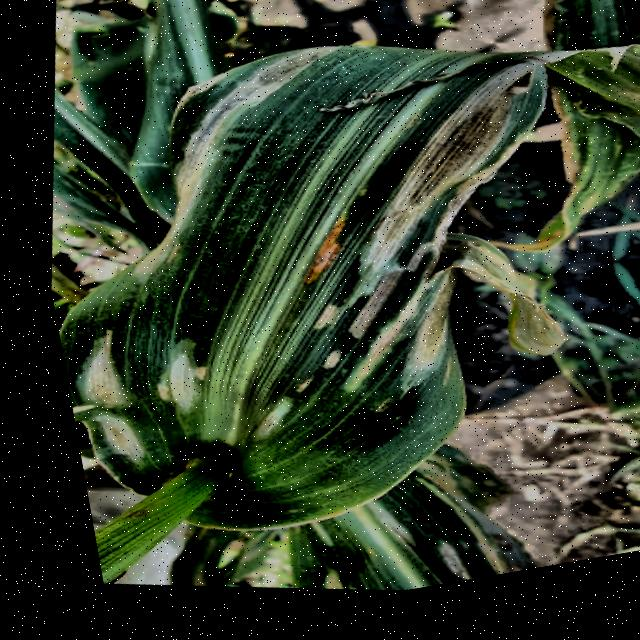blight: (63, 32, 640, 537)
